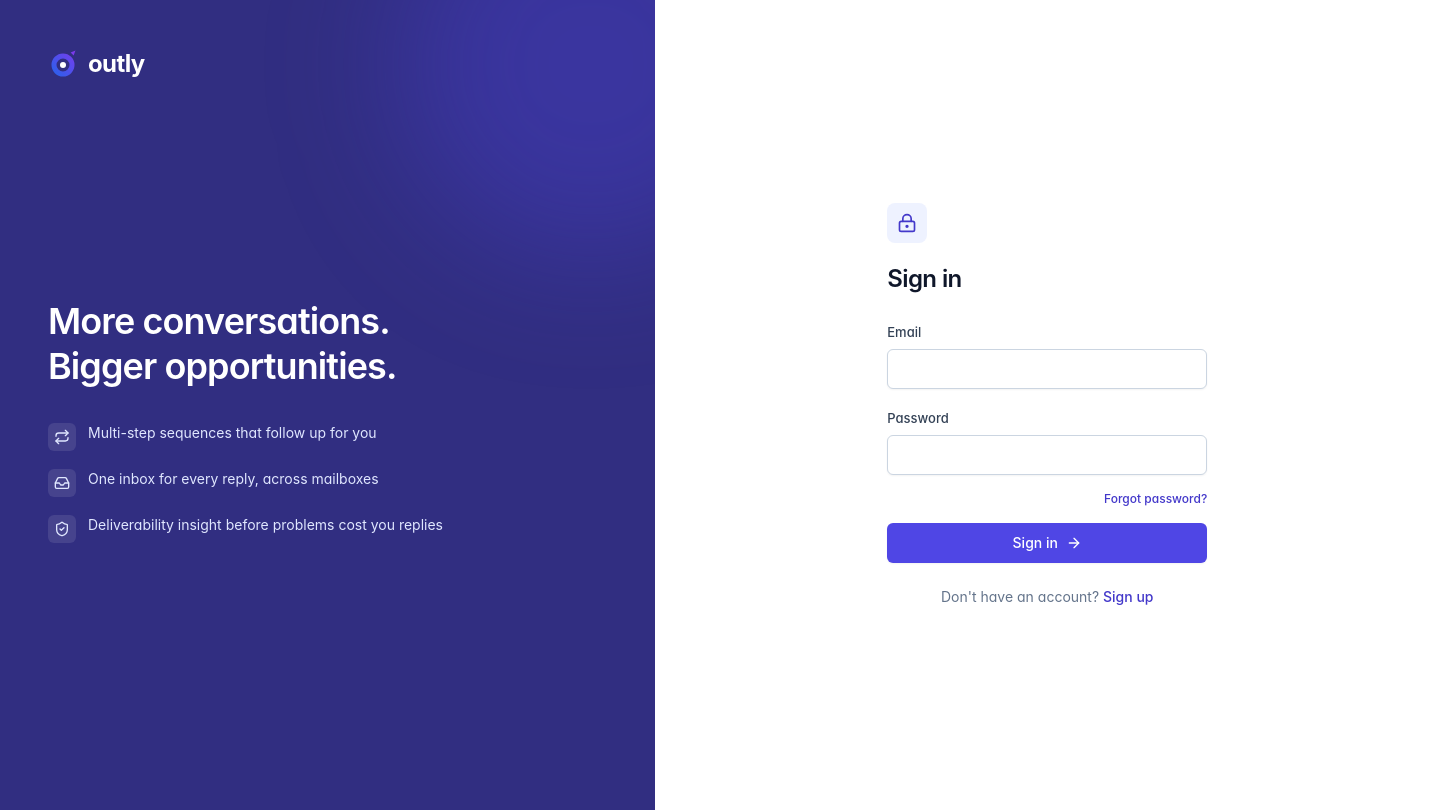
LoginPage › shows a generic invalid-credentials error and never leaks the raw provider error
In the field labelled "Email": (1047, 369) [887,349,1207,389], type "user@example.com"
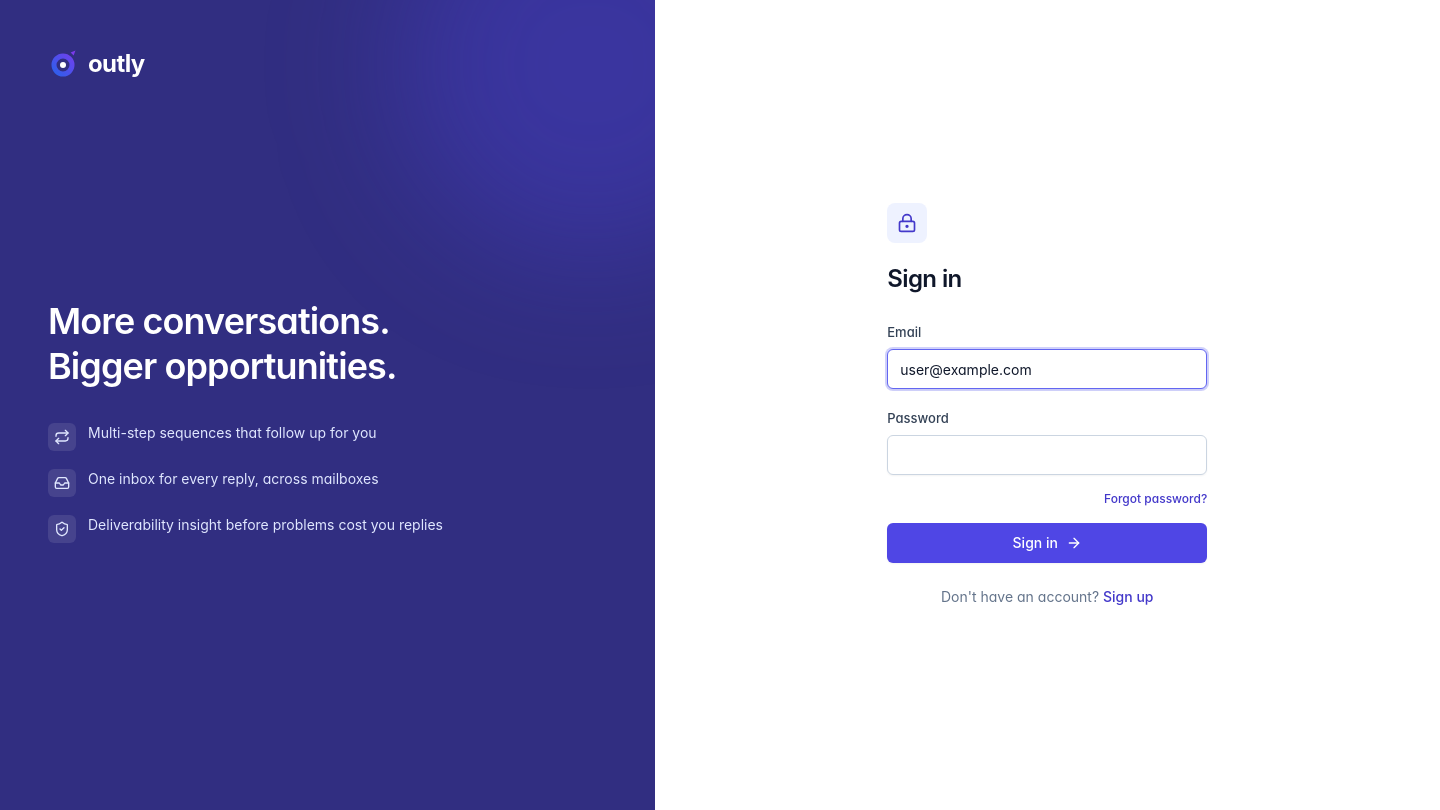
In the password field labelled "Password": (1047, 455) [887,435,1207,475], type "wrong-password"
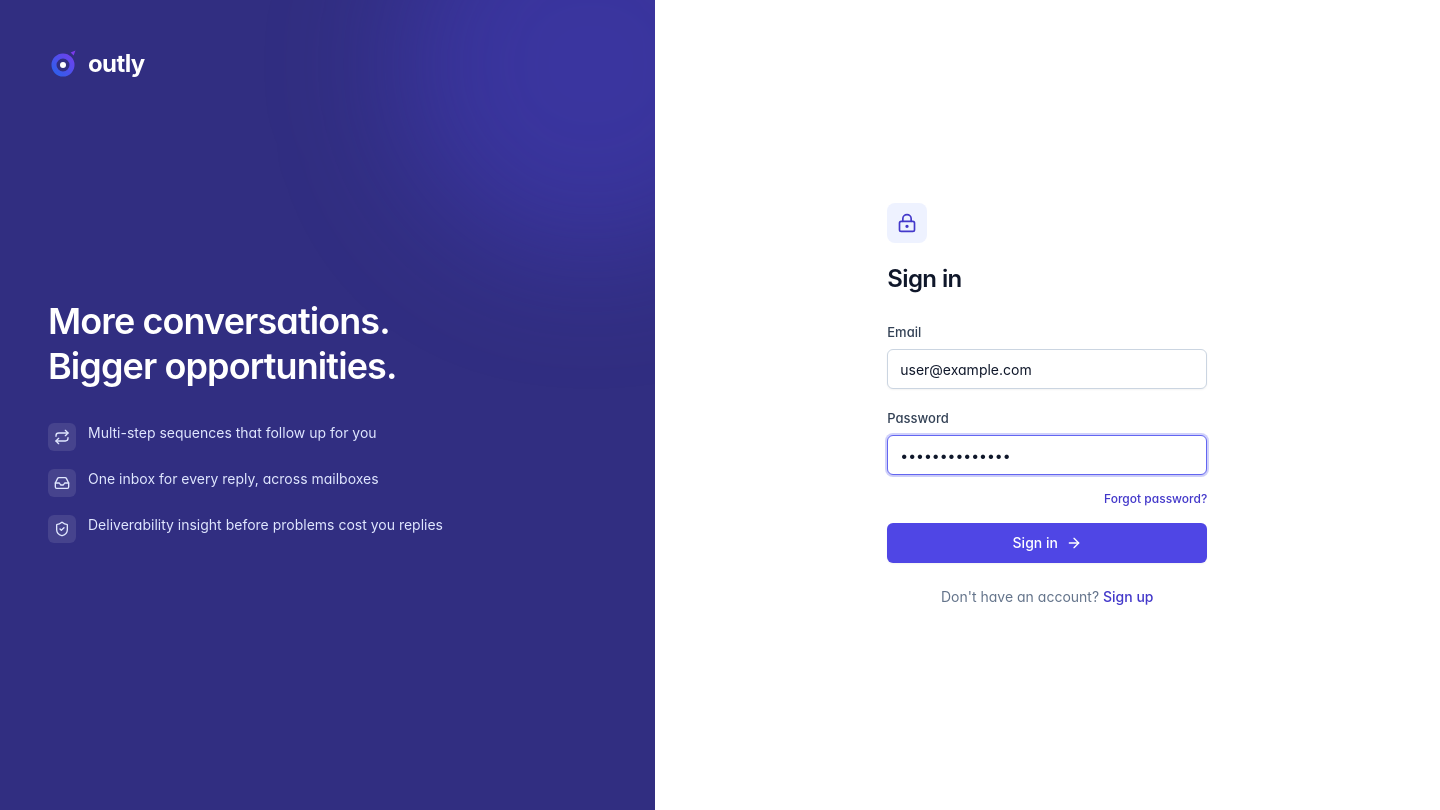
Click the button "Sign in": (1047, 543) [887,523,1207,563]
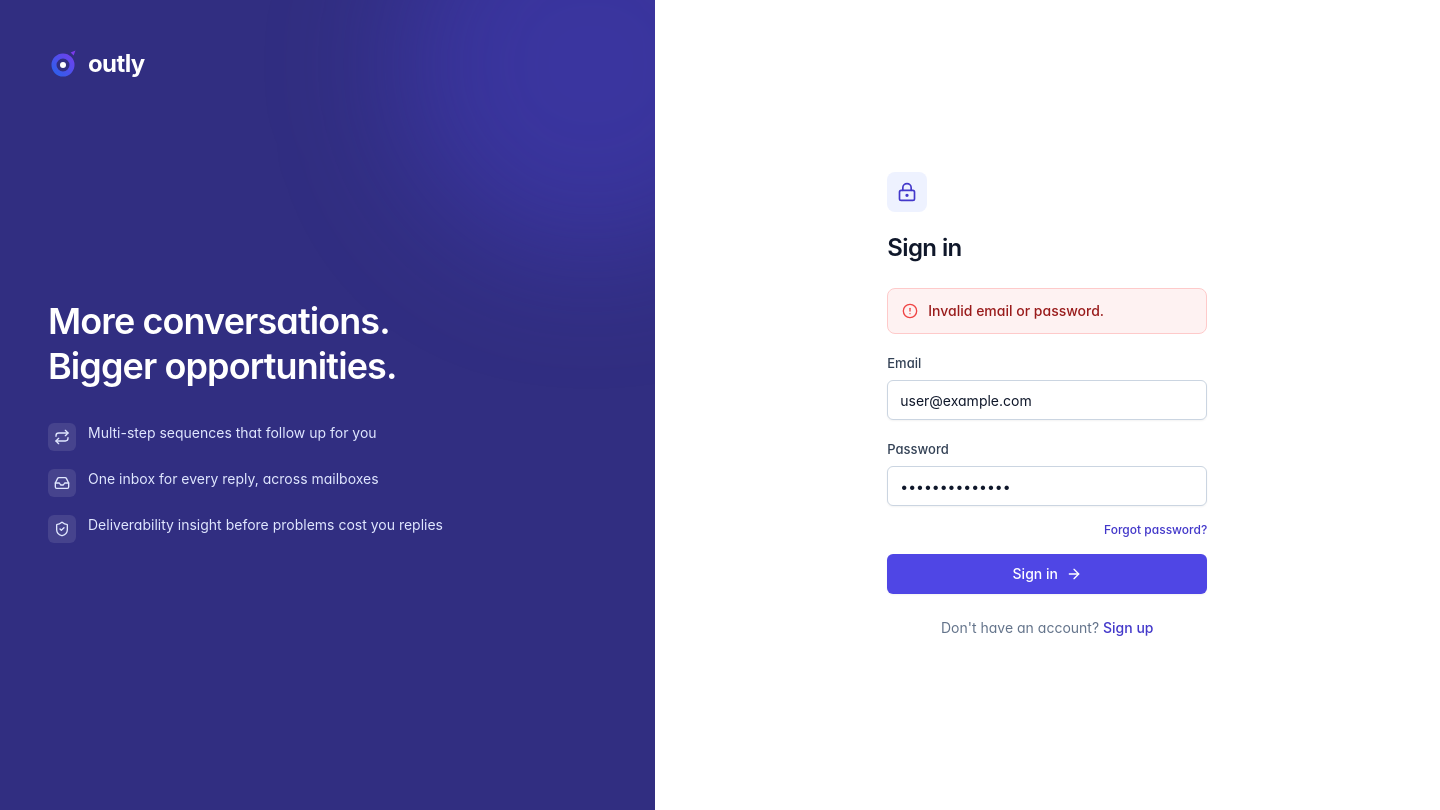
Expected: the text "Invalid email or password." is shown, [928,302,1104,319]
